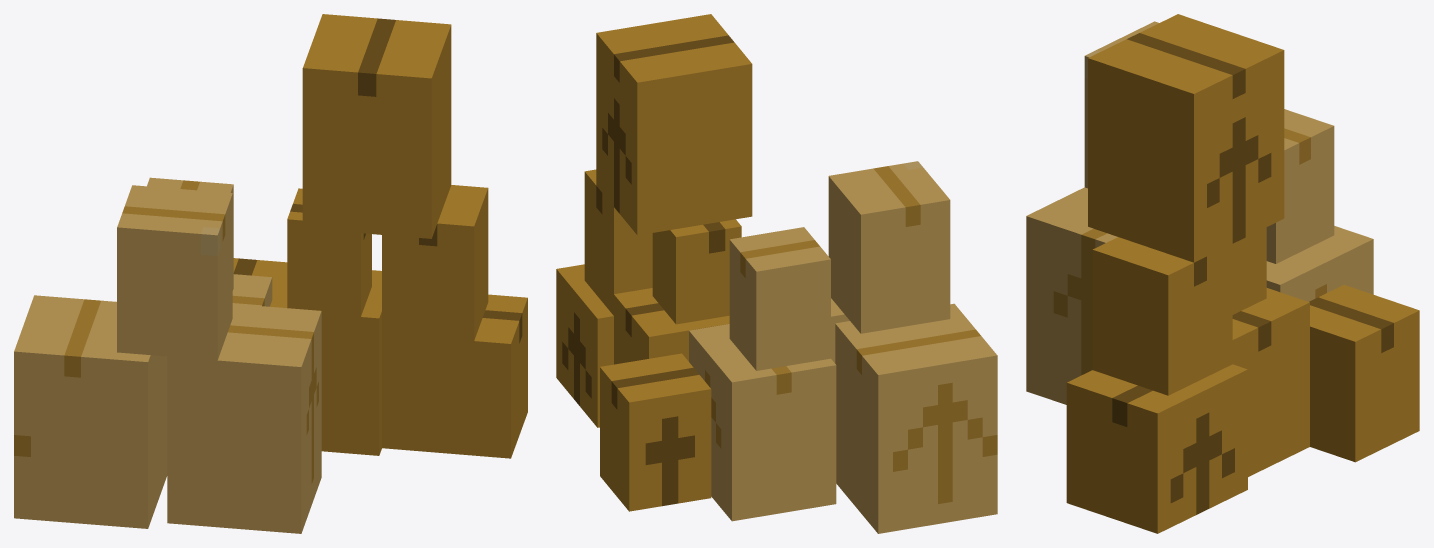
The model's file is boxes_03.fbx.
3 views of the same model, side by side, from view 1: azimuth 30°, elevation 25°; view 2: azimuth 150°, elevation 25°; view 3: azimuth 270°, elevation 25° (orthographic). The views are drawn at different scales.
Visible parts, largest first — view 1: boxes_03; view 2: boxes_03; view 3: boxes_03.
Part boxes in pixels (x1=…): boxes_03: x1=14, y1=14, x2=527, y2=533; boxes_03: x1=556, y1=14, x2=997, y2=533; boxes_03: x1=1026, y1=14, x2=1419, y2=533.
Bounding box in the file's own units: 249 × 192 × 165.
